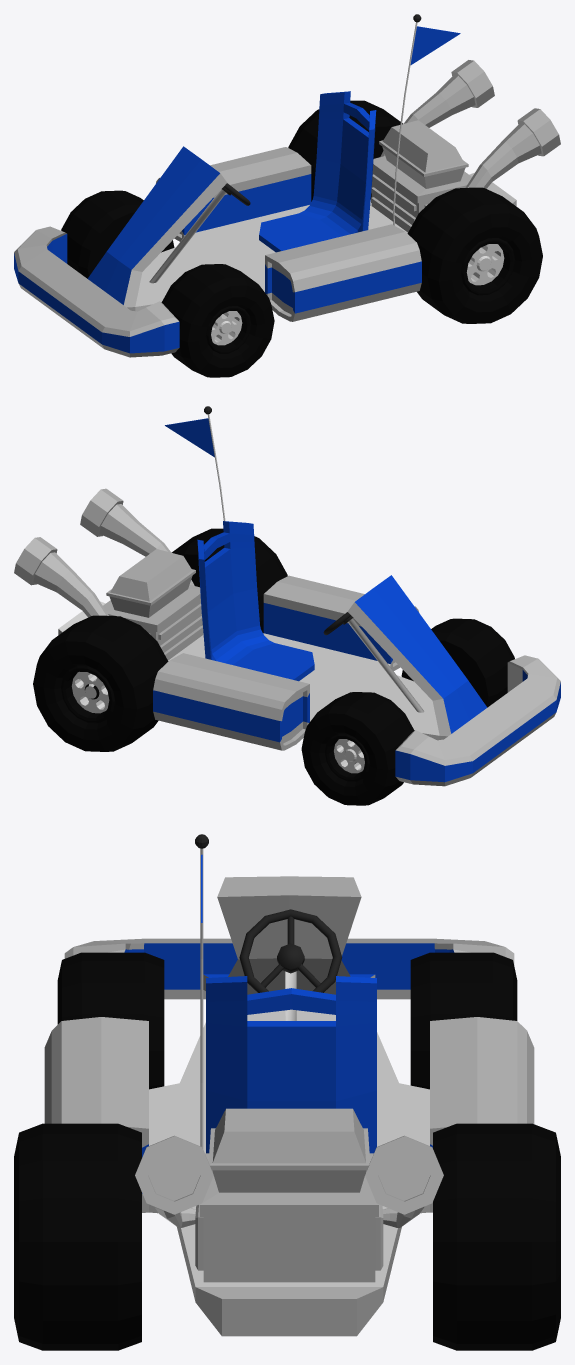
Rendered from Kart4.fbx.
3 renders of one model, top to bottom at view 1: azimuth 30°, elevation 25°; view 2: azimuth 150°, elevation 25°; view 3: azimuth 270°, elevation 25°, orthographic. The views are drawn at different scales.
Visible parts, largest first — view 1: Steering.Wheel.000, Steering.Wheel.005, Steering.Wheel.003; view 2: Steering.Wheel.000, Steering.Wheel.005, Steering.Wheel.003; view 3: Steering.Wheel.000, Steering.Wheel.005, Steering.Wheel.003.
Part boxes in pixels (left/top/right/bottom): Steering.Wheel.000: left=14, top=14, right=560, bottom=357; Steering.Wheel.005: left=288, top=100, right=542, bottom=323; Steering.Wheel.003: left=61, top=190, right=274, bottom=377; Steering.Wheel.000: left=14, top=406, right=560, bottom=786; Steering.Wheel.005: left=33, top=528, right=287, bottom=751; Steering.Wheel.003: left=301, top=618, right=514, bottom=805; Steering.Wheel.000: left=44, top=834, right=534, bottom=1336; Steering.Wheel.005: left=14, top=1123, right=560, bottom=1350; Steering.Wheel.003: left=57, top=952, right=517, bottom=1089.
Bounding box in the file's own units: 318 × 185 × 187.
